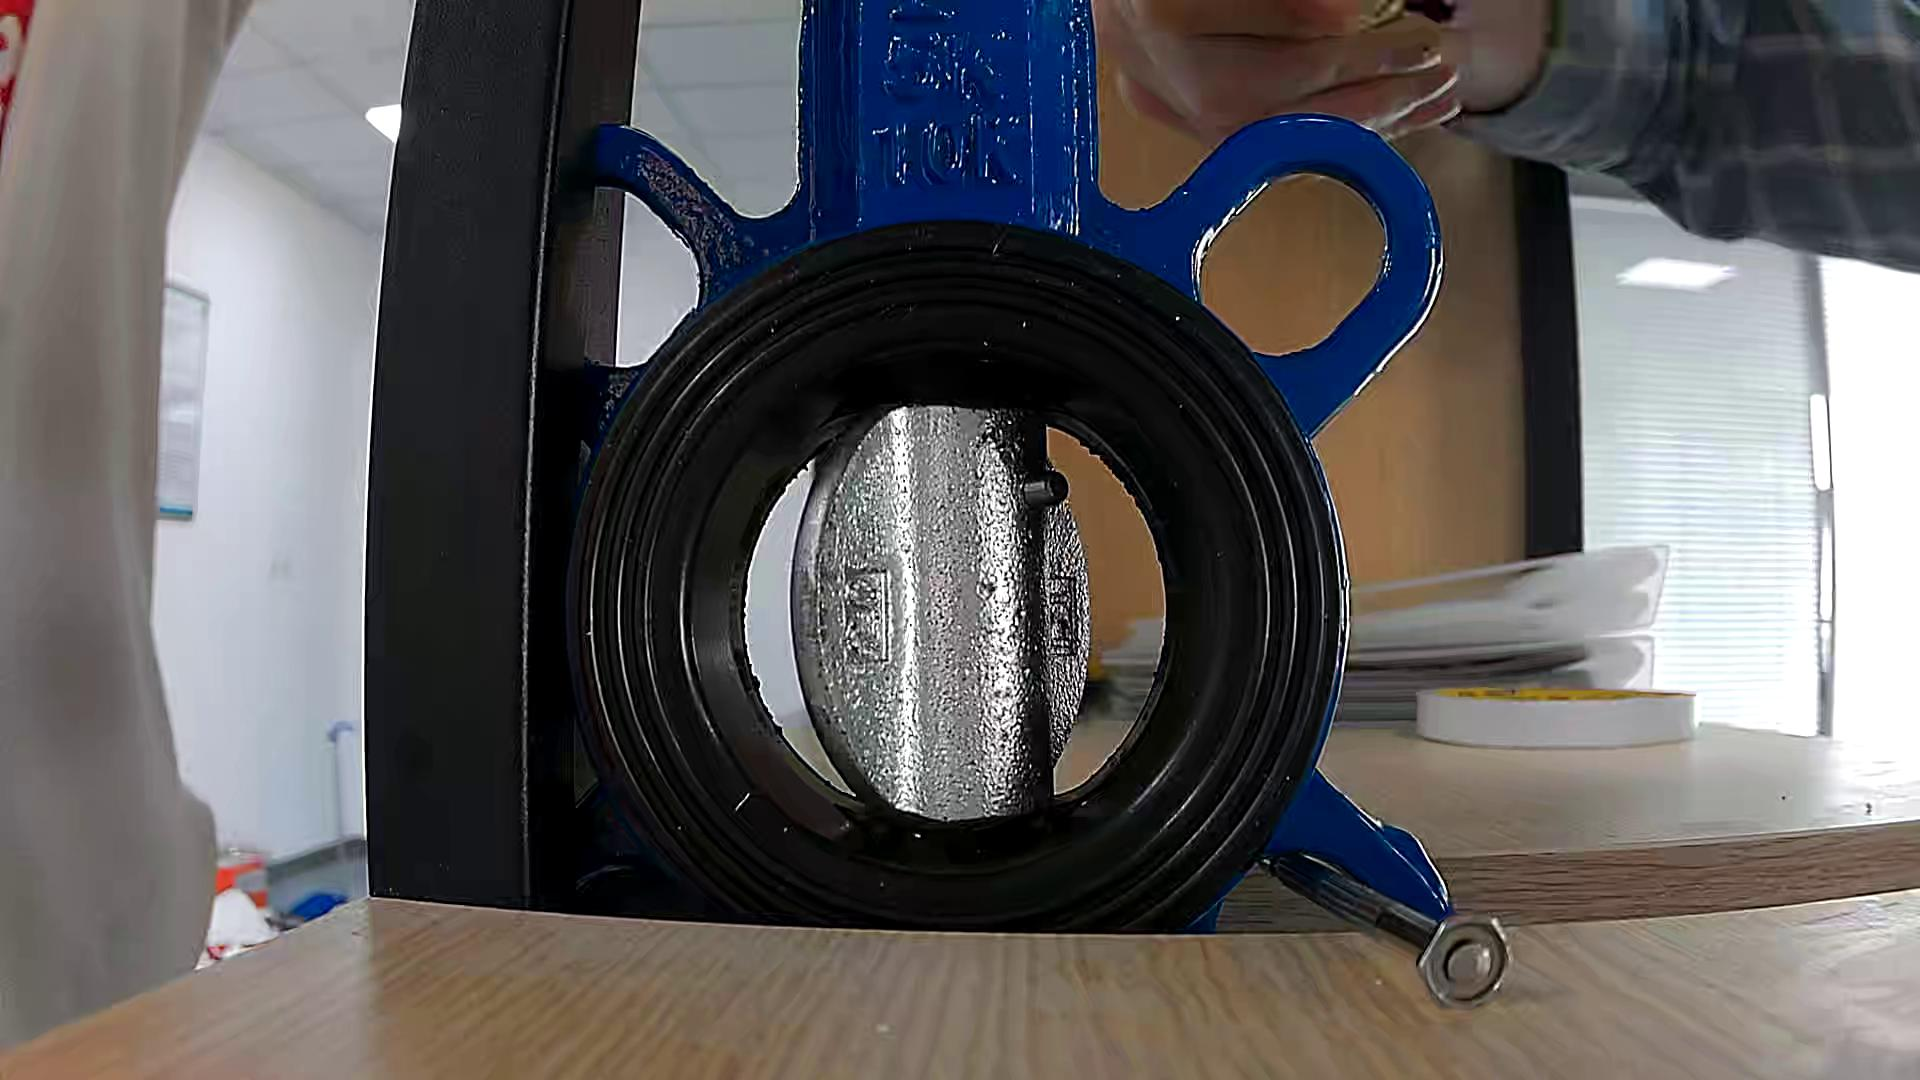valve: (791, 405, 1091, 821)
